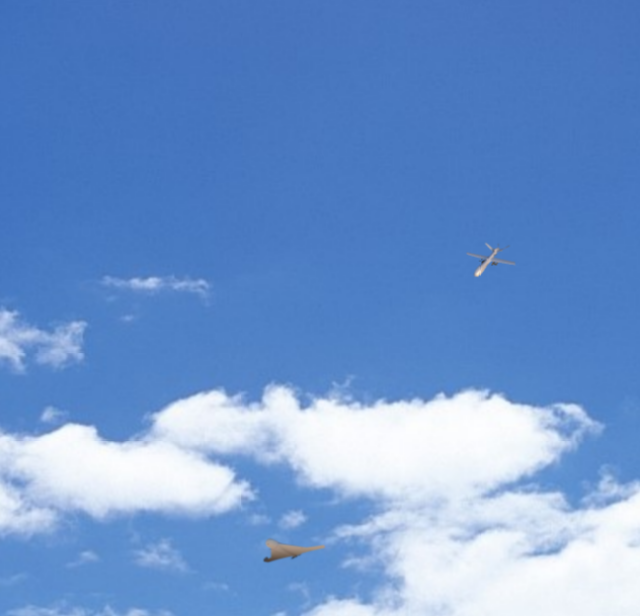military drone: (465, 241, 516, 277), (263, 539, 325, 562)
